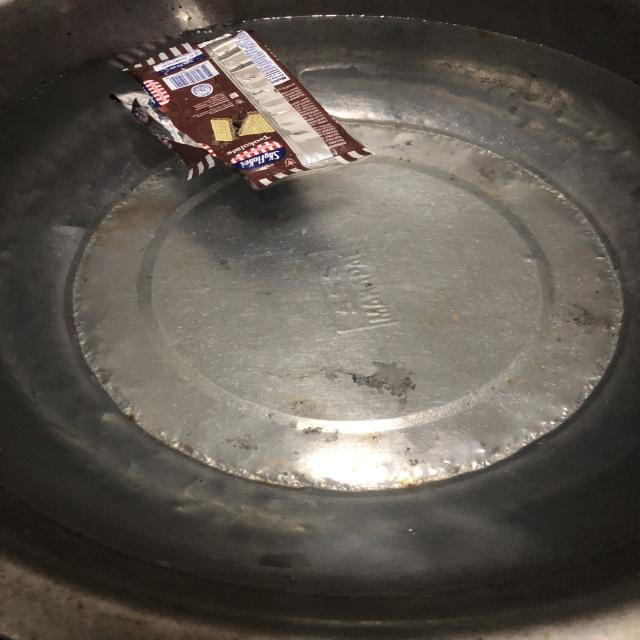Plastic Wrapper: (110, 30, 372, 189)
